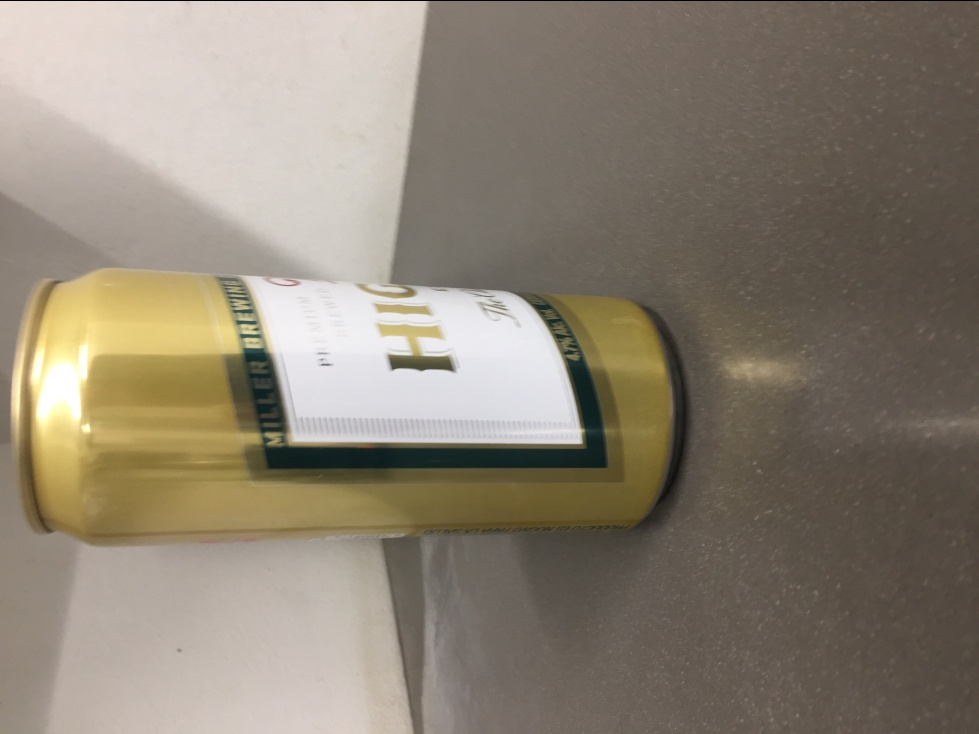miller: (9, 269, 691, 549)
